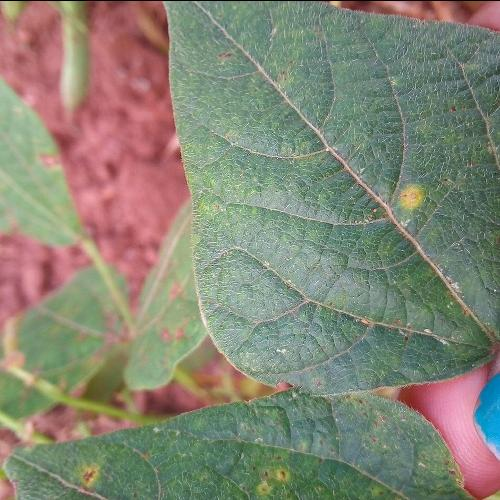mozaik: (205, 6, 475, 346)
